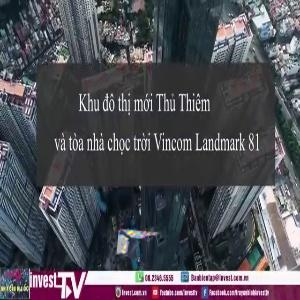drone: (118, 231, 164, 277)
